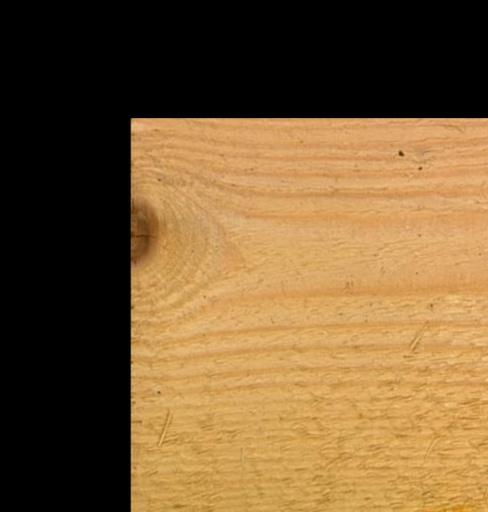sound_knot: (129, 195, 157, 268)
